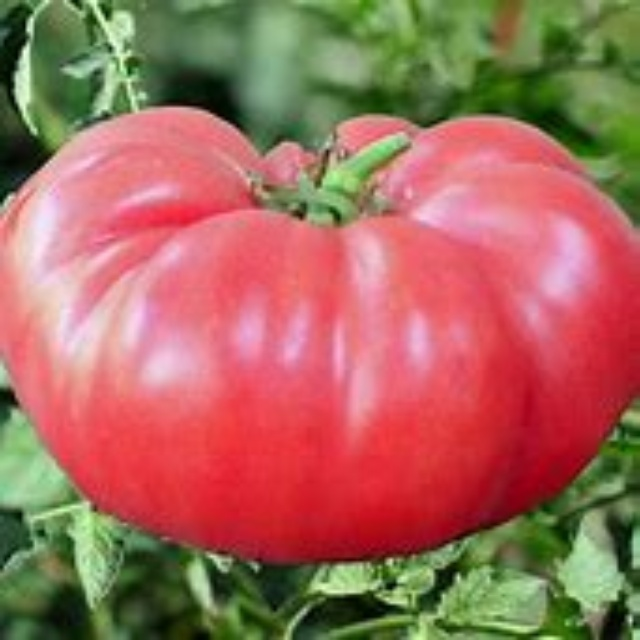tomato: (2, 105, 639, 557)
